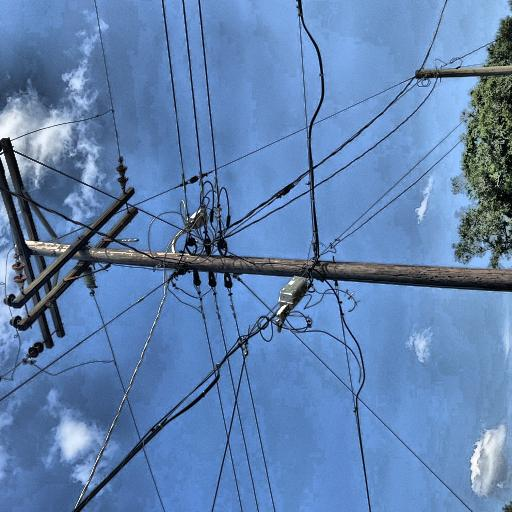insulator: (81, 116, 95, 133), (63, 123, 75, 140), (221, 104, 232, 116), (215, 90, 225, 102)
pole: (74, 123, 158, 512)
street light: (129, 301, 172, 345)
